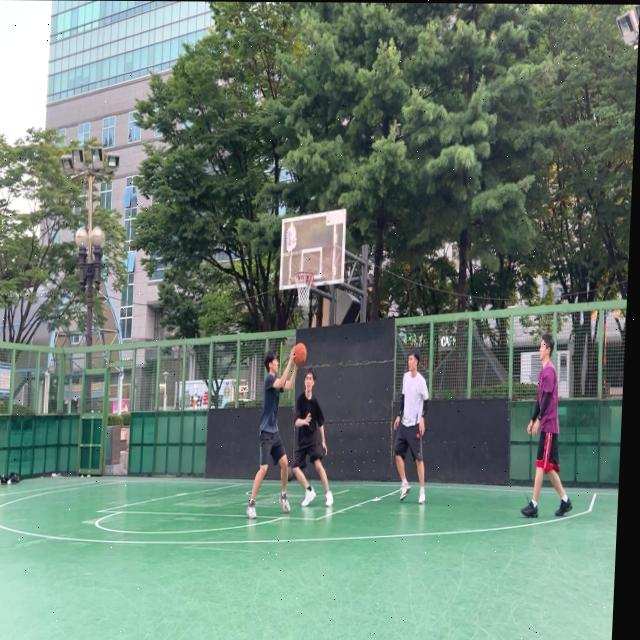basketball: (292, 343, 307, 367), (287, 466, 294, 482)
hoop: (293, 270, 315, 307)
